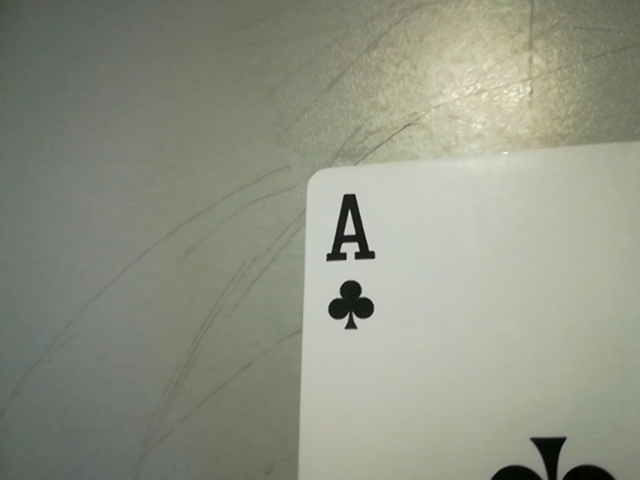mh a: (314, 187, 398, 339)
